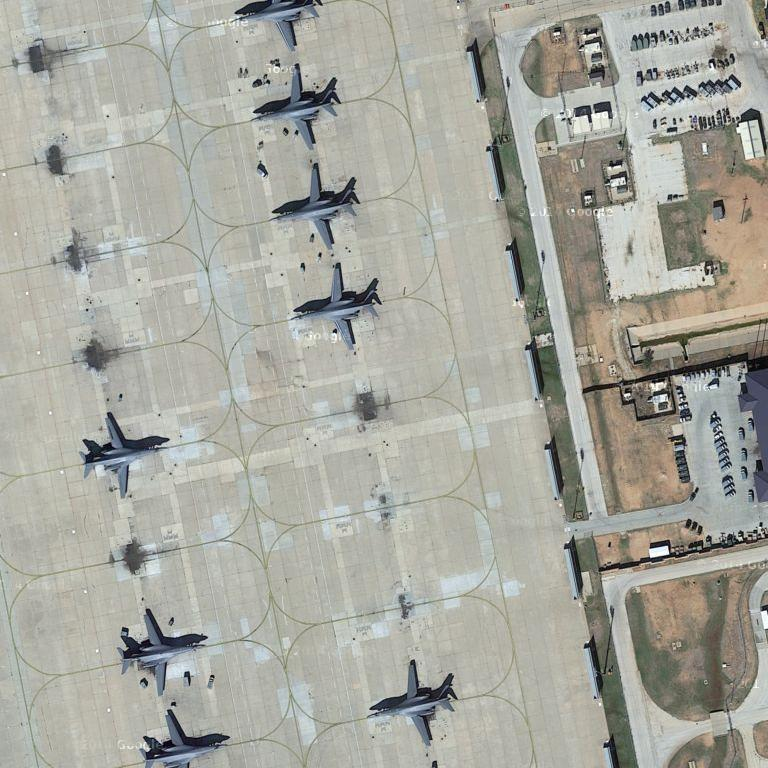B-1B: (283, 263, 388, 350), (245, 64, 350, 149), (364, 658, 461, 747), (112, 611, 209, 698), (268, 165, 365, 248), (76, 414, 171, 497), (130, 706, 229, 768), (236, 2, 323, 47)
